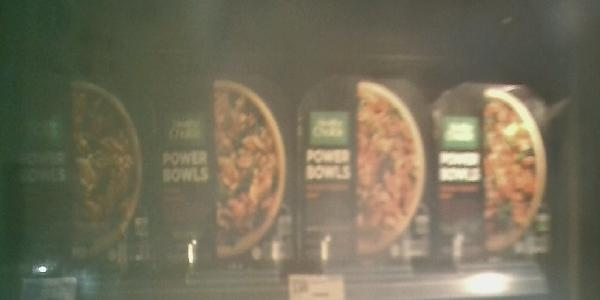pizza1: (3, 72, 160, 265), (299, 72, 437, 270), (163, 76, 300, 267), (433, 83, 558, 259)
